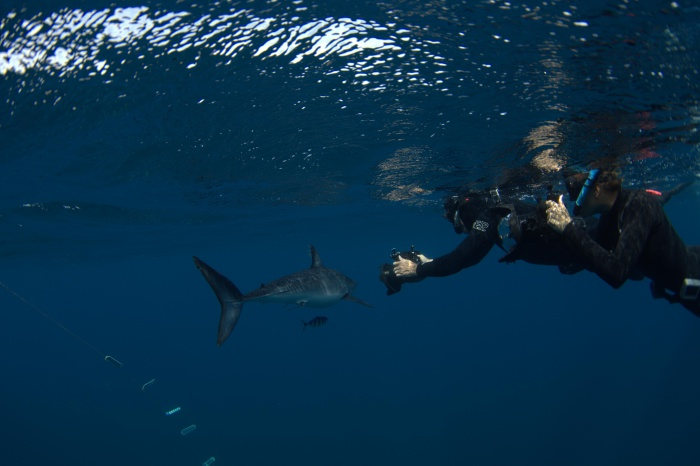Mako: (189, 236, 383, 357)
